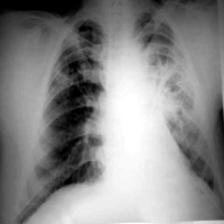tuberculosis: (13, 7, 220, 224)
